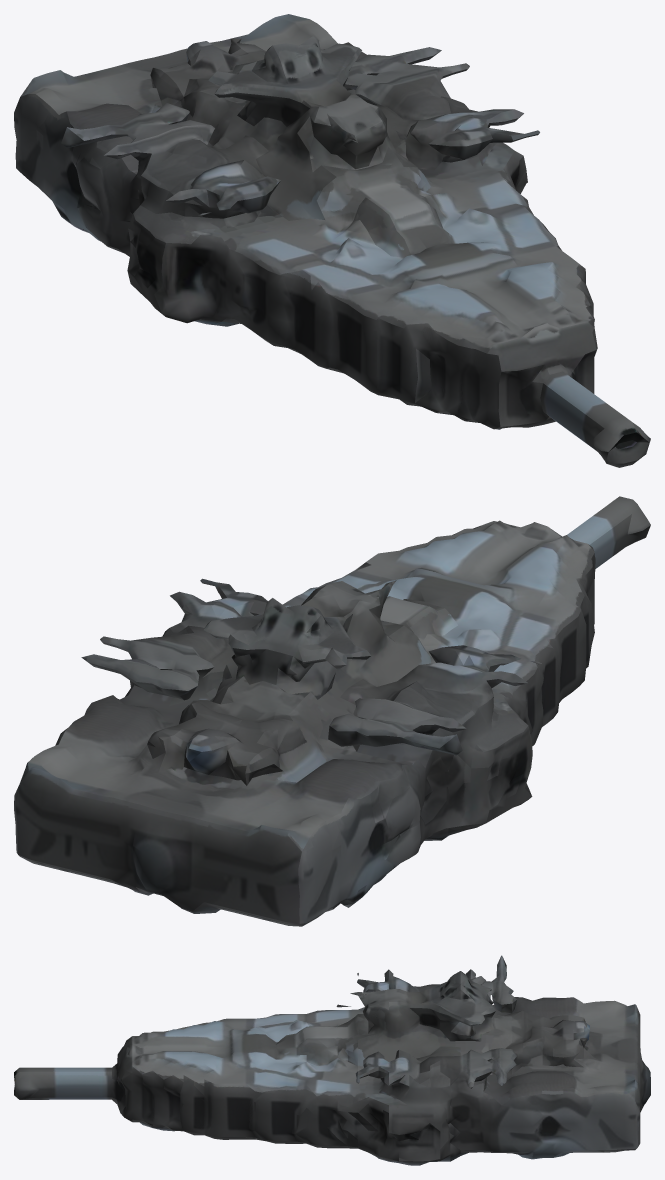
File: BattleCruiser.glb
3 views of the same model, one above another, from view 1: azimuth 30°, elevation 25°; view 2: azimuth 150°, elevation 25°; view 3: azimuth 270°, elevation 25° (orthographic). The views are drawn at different scales.
Parts seen in each view (by area): view 1: tmp3xid5gz0.ply; view 2: tmp3xid5gz0.ply; view 3: tmp3xid5gz0.ply.
Boxes of the visible parts, <box> form: tmp3xid5gz0.ply: <box>14,14,650,467</box>; tmp3xid5gz0.ply: <box>14,496,650,926</box>; tmp3xid5gz0.ply: <box>14,955,650,1165</box>.
Size of the model in its own units: 0.8991 by 0.4789 by 1.93.
Materials: 1 (1 with a texture image).
